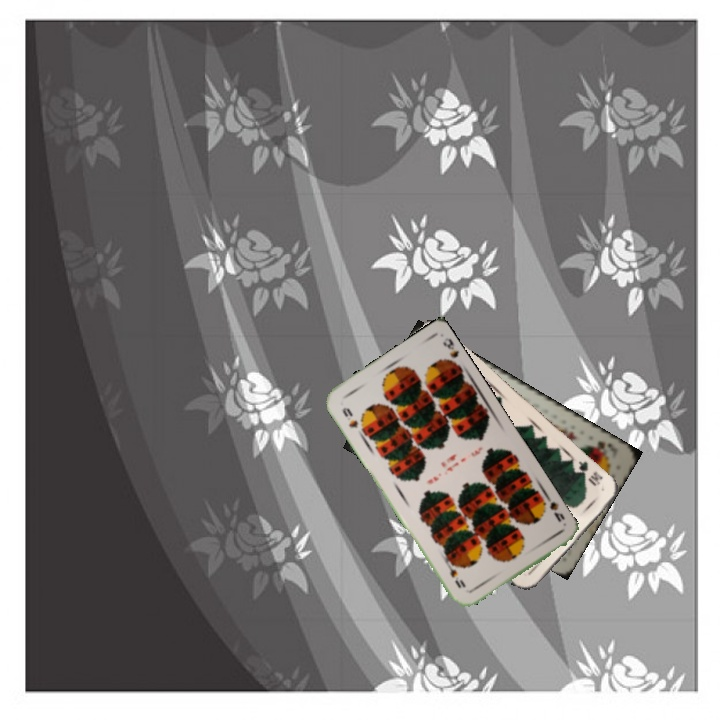G10: (573, 457, 605, 489)
S9: (536, 490, 567, 525), (338, 403, 361, 431)
SK: (585, 436, 614, 455)
